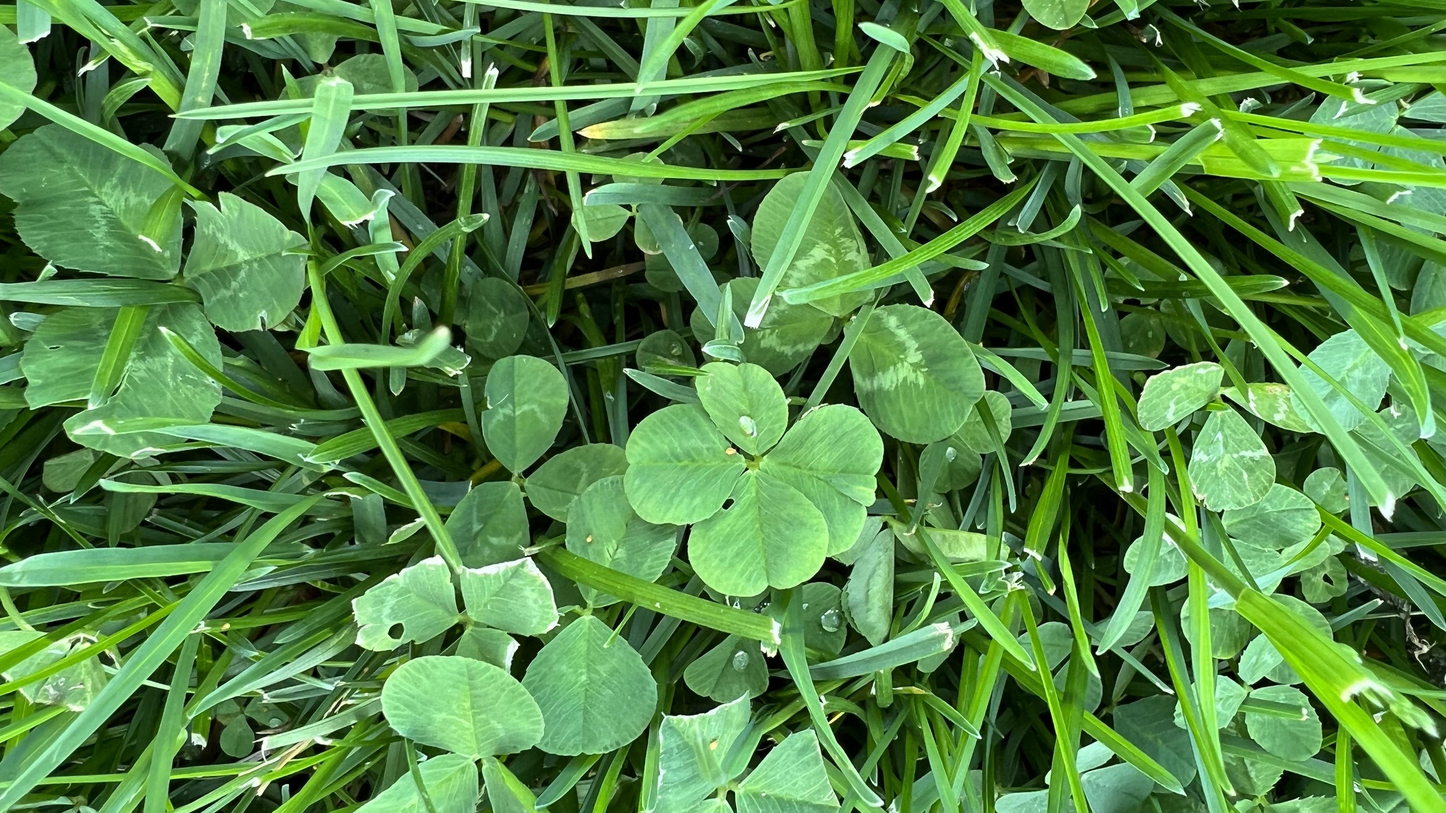4-Leaf-Clovers: (648, 316, 1052, 460)
